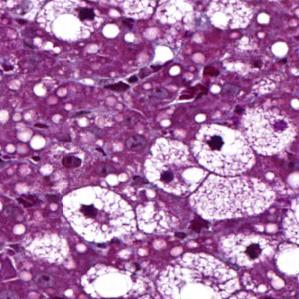ballooning: (60, 183, 137, 246), (142, 136, 211, 199), (188, 122, 256, 177), (34, 3, 106, 44)
